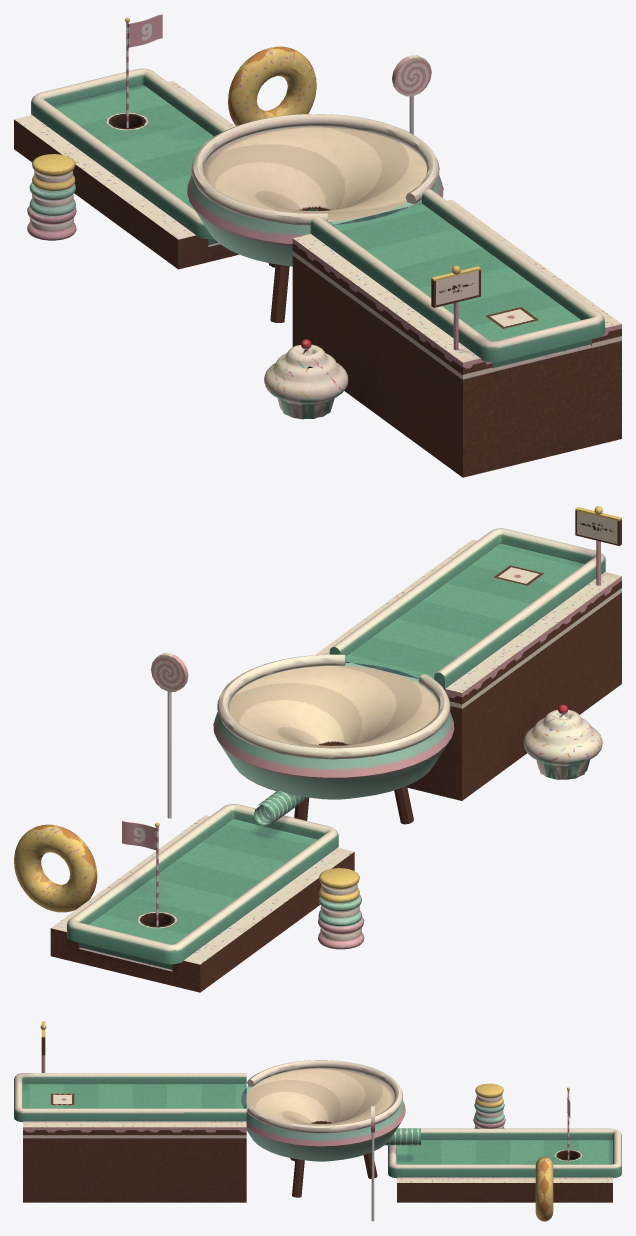
File: hole09.glb
The picture shows the model from 3 angles, top to bottom: view 1: azimuth 30°, elevation 25°; view 2: azimuth 150°, elevation 25°; view 3: azimuth 270°, elevation 25°; orthographic projection. The views are drawn at different scales.
Visible parts, largest first — view 1: Base, MixingBowl, Rails, Green, GreenB, Decor4, Decor1, Decor3, HoleSign, Decor2, Flag, BowlLegs; view 2: Base, MixingBowl, Rails, Green, GreenB, Decor4, Decor1, Decor3, Decor2, HoleSign, Flag, Chute (+1 smaller); view 3: Base, MixingBowl, Rails, Green, GreenB, Decor3, Decor4, BowlLegs, Chute, Decor2.
Part boxes in pixels (<box>): Base: <box>14,80,621,477</box>; MixingBowl: <box>187,114,443,266</box>; Rails: <box>31,68,604,362</box>; Green: <box>332,203,591,367</box>; GreenB: <box>53,85,217,244</box>; Decor4: <box>228,46,316,125</box>; Decor1: <box>264,339,348,419</box>; Decor3: <box>27,154,76,240</box>; HoleSign: <box>431,265,480,350</box>; Decor2: <box>392,55,431,134</box>; Flag: <box>125,14,162,127</box>; BowlLegs: <box>268,263,289,322</box>; Base: <box>50,539,621,992</box>; MixingBowl: <box>213,654,454,799</box>; Rails: <box>67,528,605,964</box>; Green: <box>345,543,584,678</box>; GreenB: <box>78,819,317,969</box>; Decor4: <box>14,824,97,912</box>; Decor1: <box>523,704,602,779</box>; Decor3: <box>318,868,364,949</box>; Decor2: <box>151,653,188,818</box>; HoleSign: <box>575,506,621,585</box>; Flag: <box>122,821,159,926</box>; Chute: <box>254,791,307,825</box>; Base: <box>23,1121,612,1202</box>; MixingBowl: <box>241,1060,405,1161</box>; Rails: <box>14,1073,621,1178</box>; Green: <box>23,1083,246,1108</box>; GreenB: <box>397,1139,612,1164</box>; Decor3: <box>473,1083,505,1128</box>; Decor4: <box>535,1156,553,1221</box>; BowlLegs: <box>290,1152,377,1197</box>; Chute: <box>324,1123,420,1145</box>; Decor2: <box>371,1105,374,1221</box>.
Size of what is drawn, in the model's own units: 3.68 by 2.11 by 8.86.
Materials: 1 (1 with a texture image).
